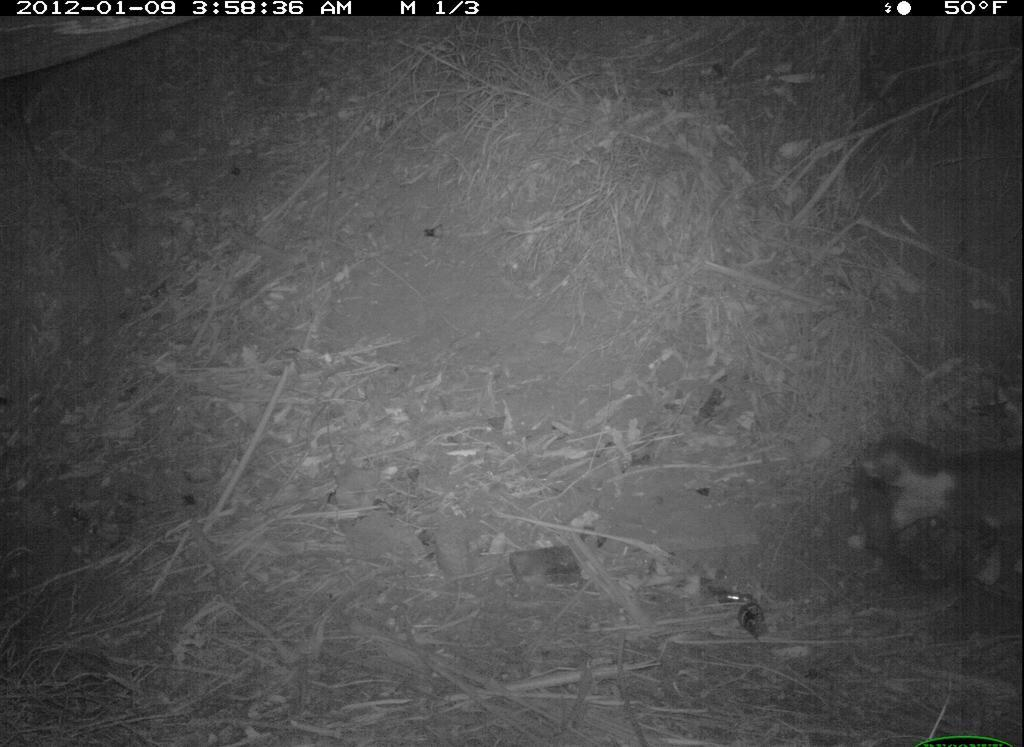cat: (829, 418, 1021, 646)
